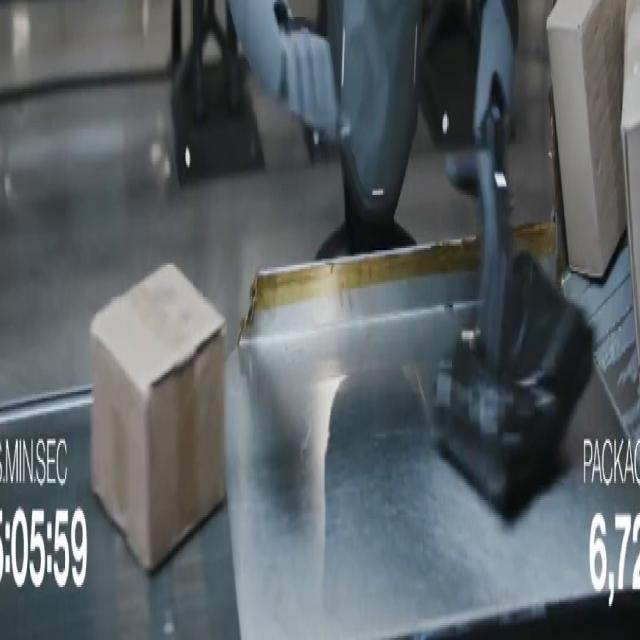package: (433, 252, 592, 515), (91, 265, 225, 570), (547, 0, 626, 277), (622, 0, 639, 336)
